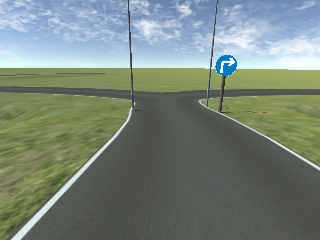right: (216, 56, 237, 76)
